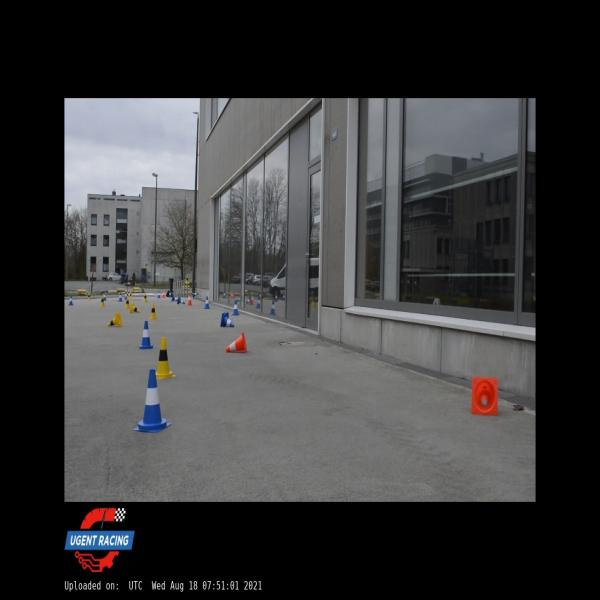blue_cone: (133, 370, 172, 434), (138, 320, 153, 350), (220, 313, 234, 327), (232, 301, 240, 315), (204, 296, 211, 309), (270, 300, 276, 315), (177, 296, 185, 304), (68, 296, 73, 305), (118, 292, 123, 301), (192, 292, 198, 298), (103, 292, 107, 301), (171, 296, 177, 301), (157, 291, 160, 298), (124, 292, 126, 300)
orange_cone: (472, 378, 498, 415), (225, 333, 248, 353), (187, 294, 192, 306), (161, 291, 165, 298)
yellow_cone: (151, 335, 176, 378), (108, 312, 122, 326), (149, 303, 157, 318), (130, 303, 140, 313), (124, 296, 130, 308), (100, 296, 106, 307), (143, 292, 148, 302), (185, 275, 190, 284), (87, 292, 91, 301)
